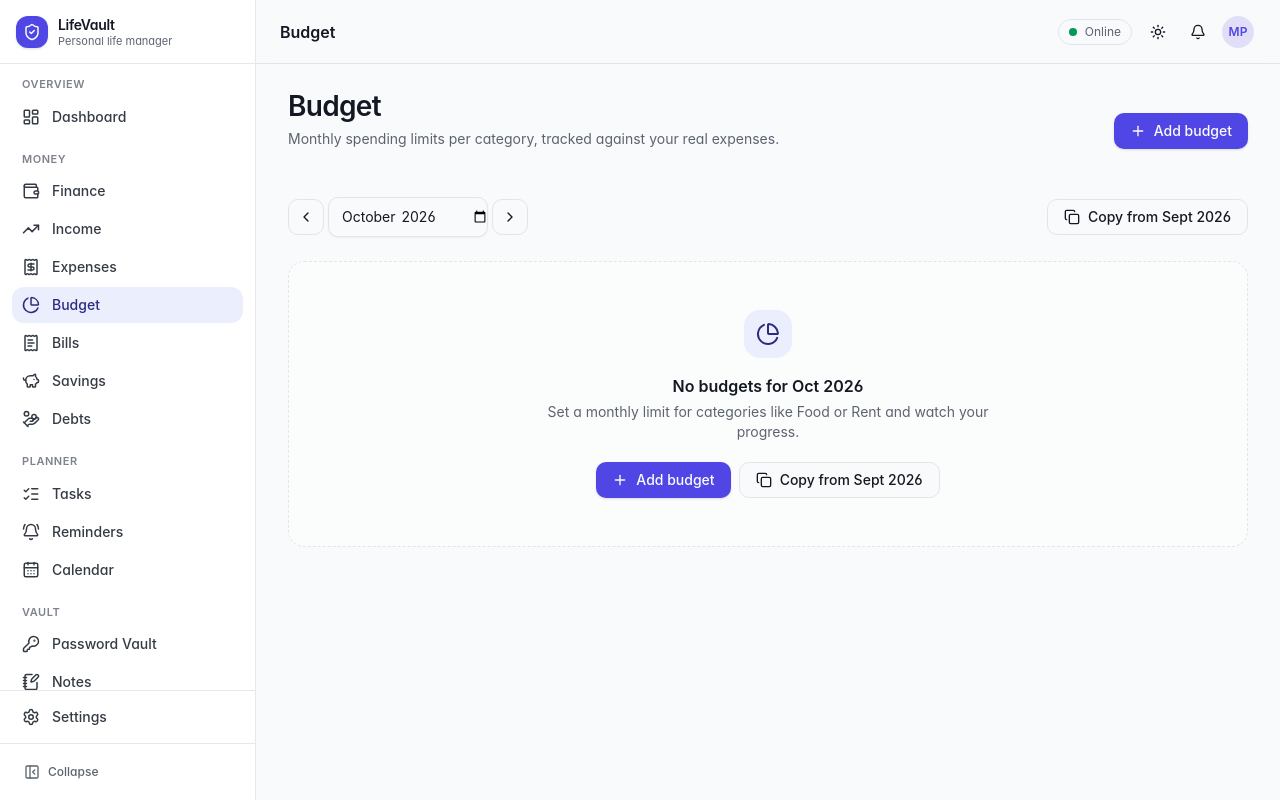
Test case: budget page › copies last month's budgets and navigates months
Step 1. Click the 1st button "Copy from Sept 2026" → (1148, 217), box [1047, 199, 1248, 235]
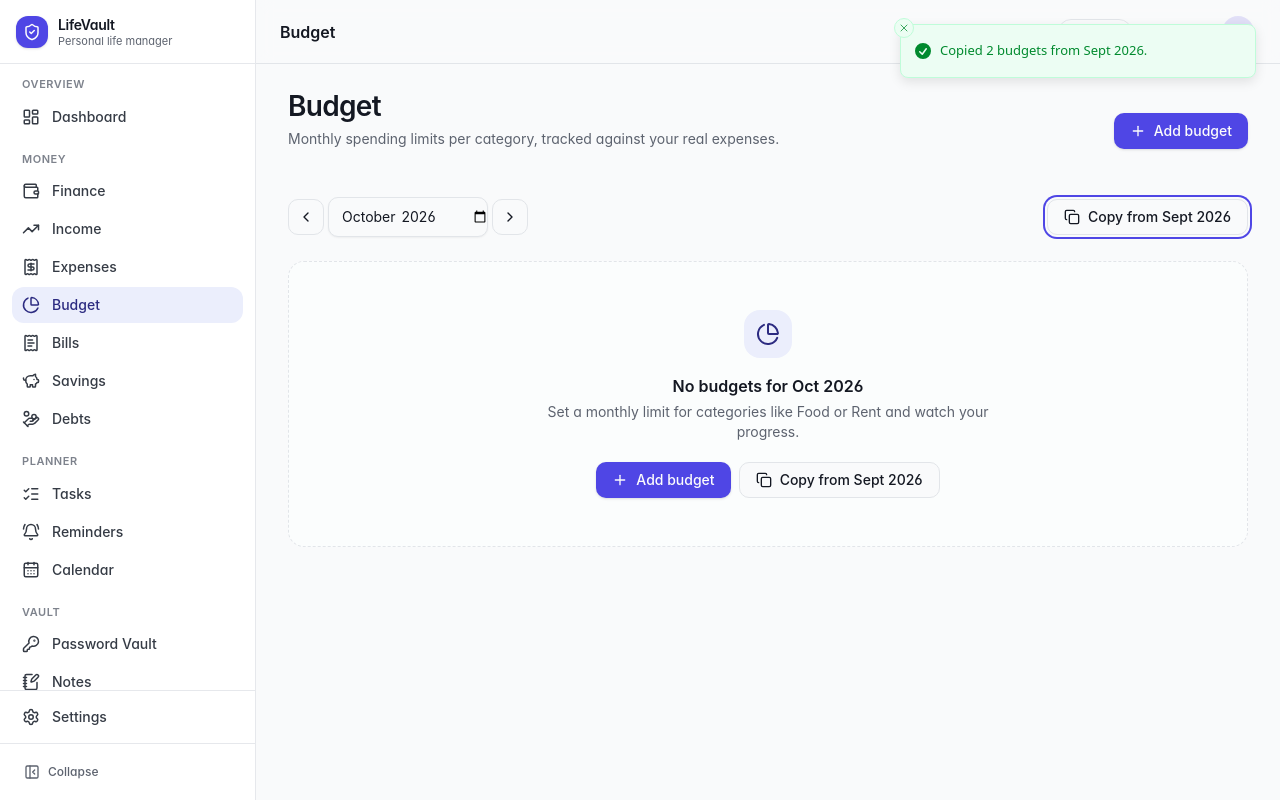
Expected: the text "Copied 2 budgets from Sept 2026." is shown, [940, 41, 1147, 60]
Step 2. Click the button named "Next month" → (510, 217), box [492, 199, 528, 235]
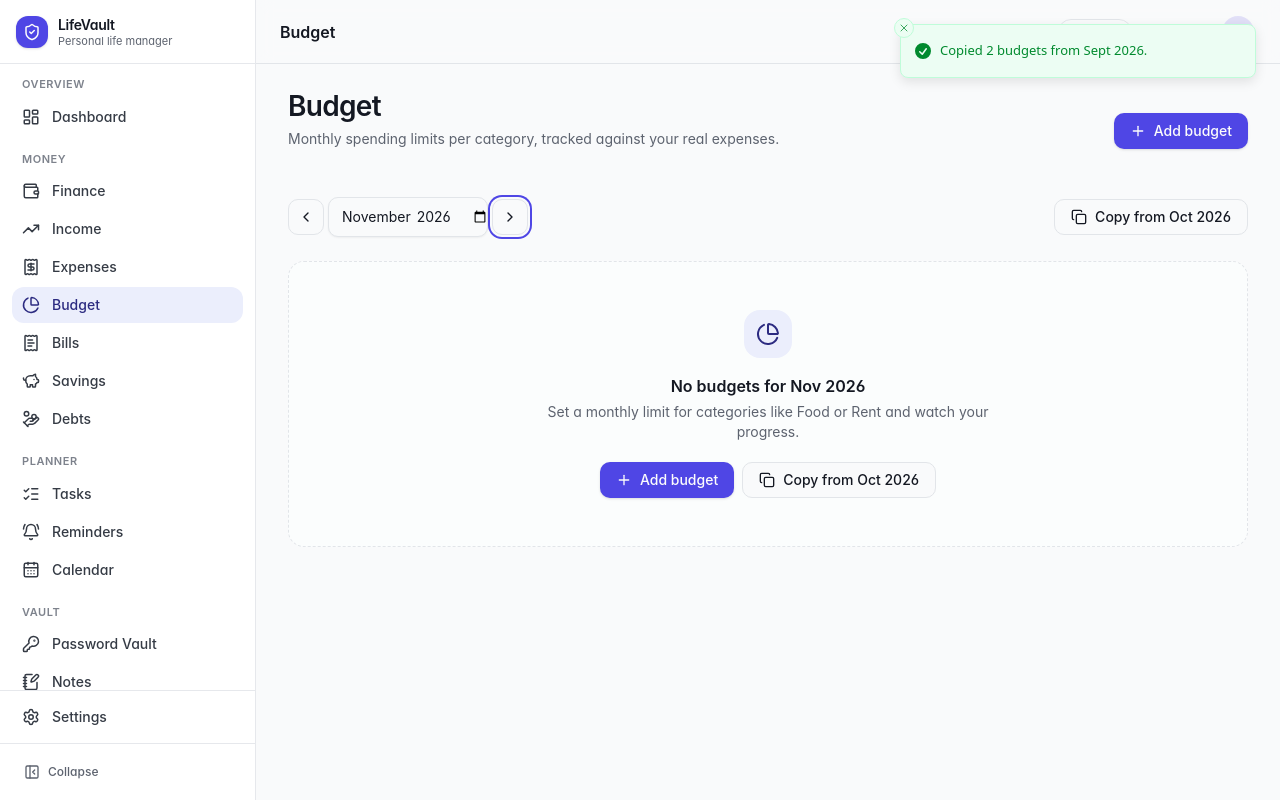
Expected: the field named "Budget month" holds "2026-11", [328, 197, 488, 237]
